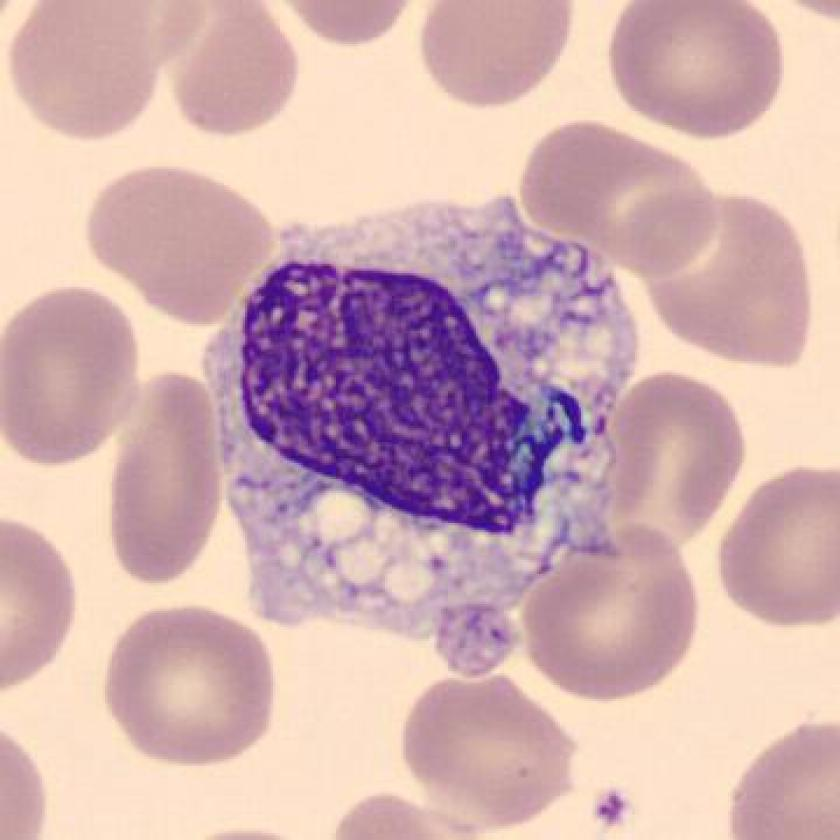monocyte: (199, 182, 659, 691)
